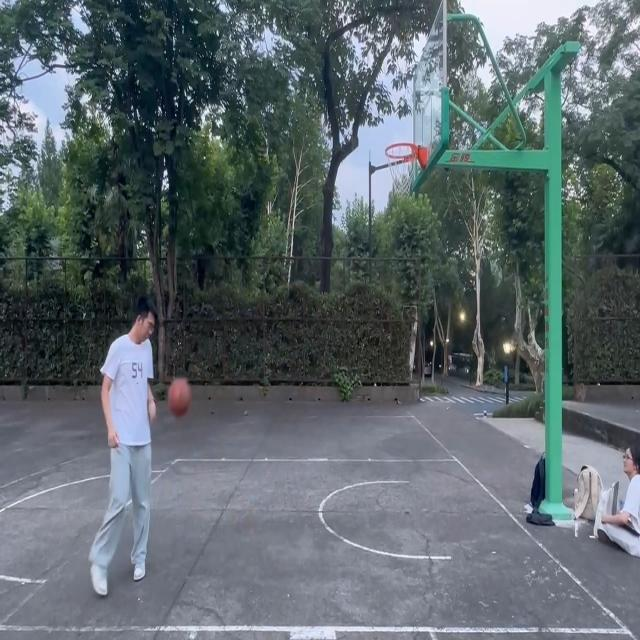basketball: (383, 143, 429, 197)
rim: (170, 378, 192, 416)
